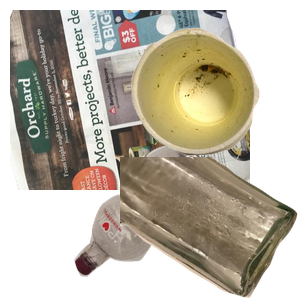glass: (120, 157, 300, 300)
paper: (10, 10, 250, 190)
plastic: (72, 142, 273, 300)
trash: (129, 25, 300, 173)
